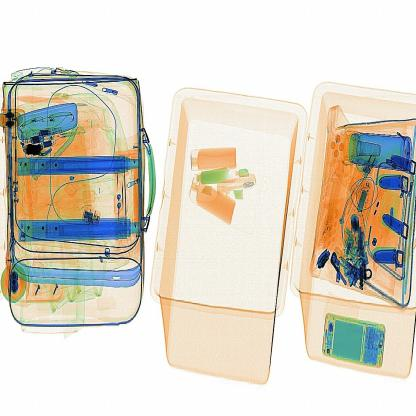scissors: (25, 137, 52, 164)
